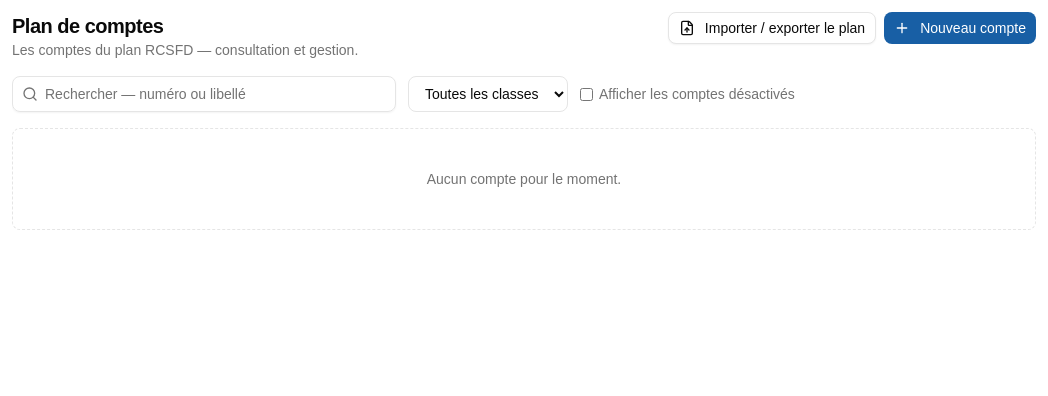
Test: PagePlanComptable — import/export CSV › le panneau est masqué par défaut, puis apparaît au clic
Check: the text "Aucun compte pour le moment." is shown, box [12,128,1036,230]
Check: the field labelled "Fichier CSV" is not shown
Click the button "Importer / exporter le plan".
click(772, 28)  # box [668,12,876,44]
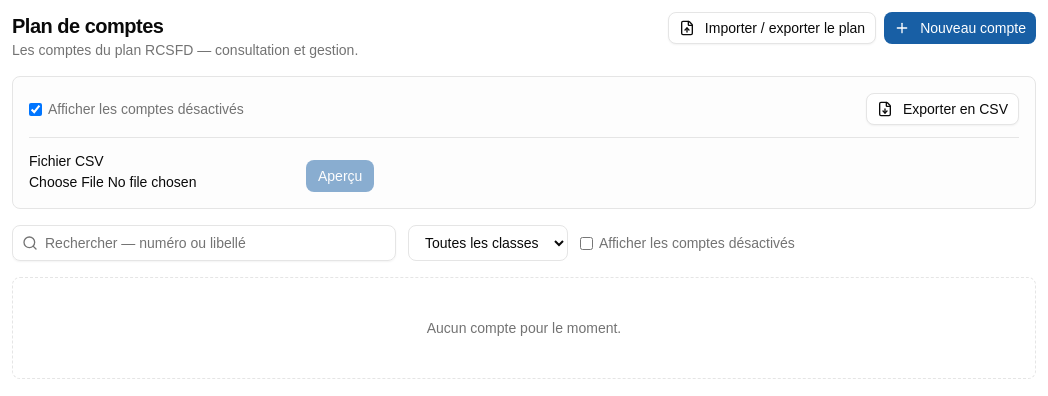
Check: the file field labelled "Fichier CSV" is shown, box [29,172,294,192]
